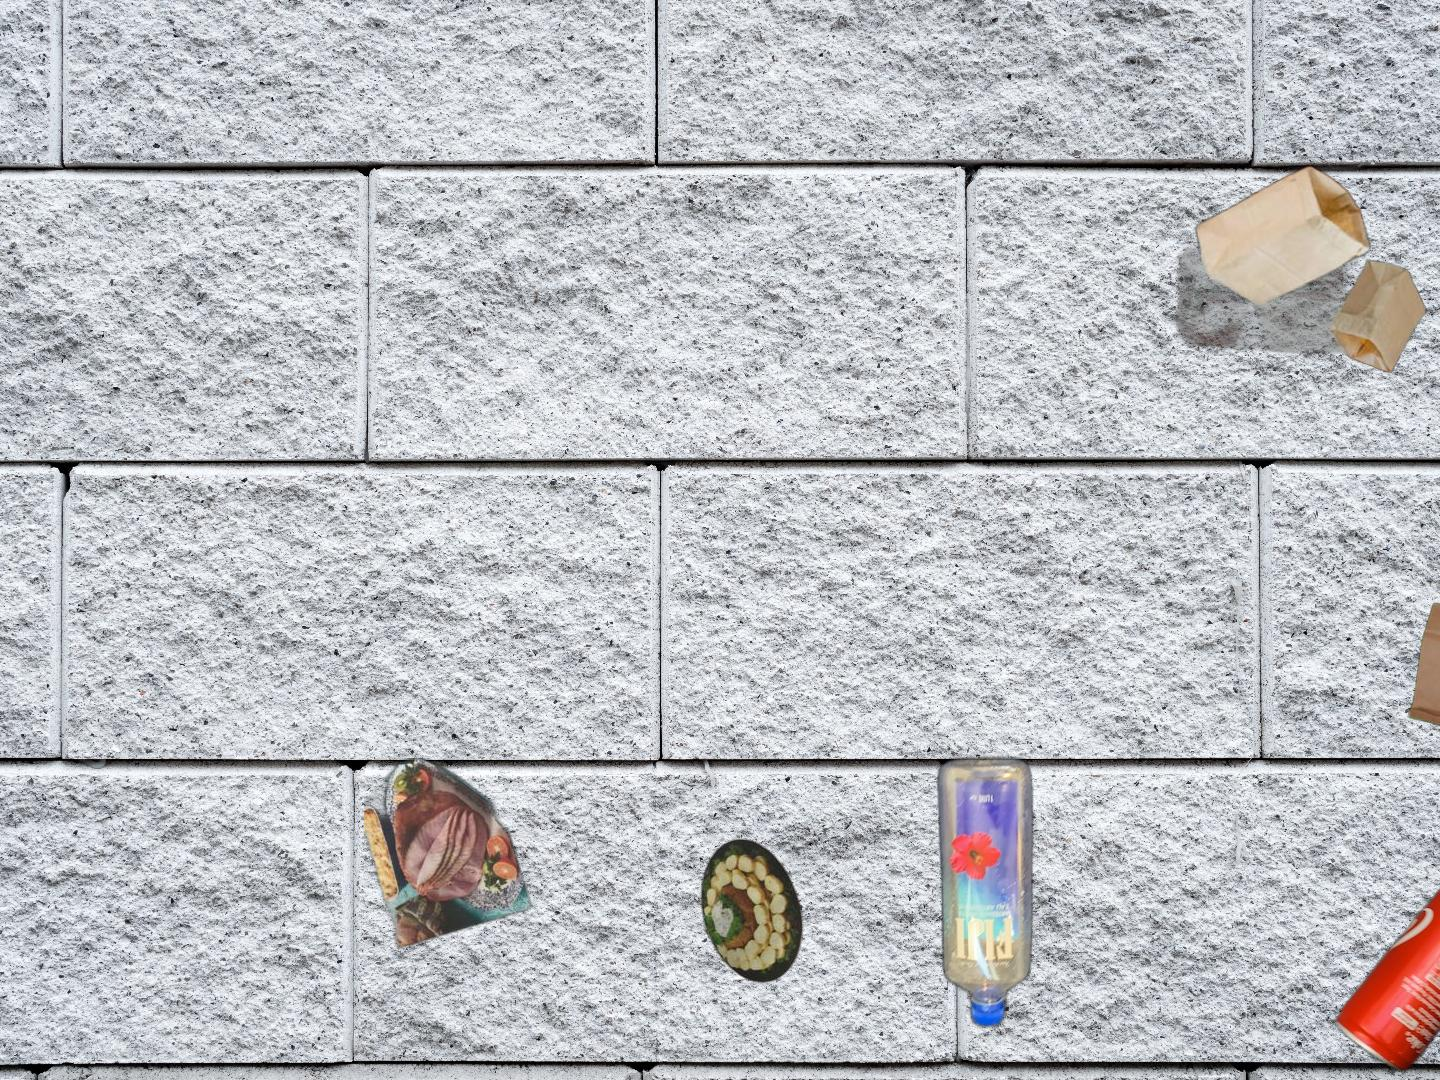metal-cans: (1329, 842, 1440, 1077)
paper: (364, 758, 808, 1065)
paper-bag: (1166, 163, 1440, 378), (1406, 602, 1440, 859)
plastic-bottles: (934, 752, 1037, 1032)
